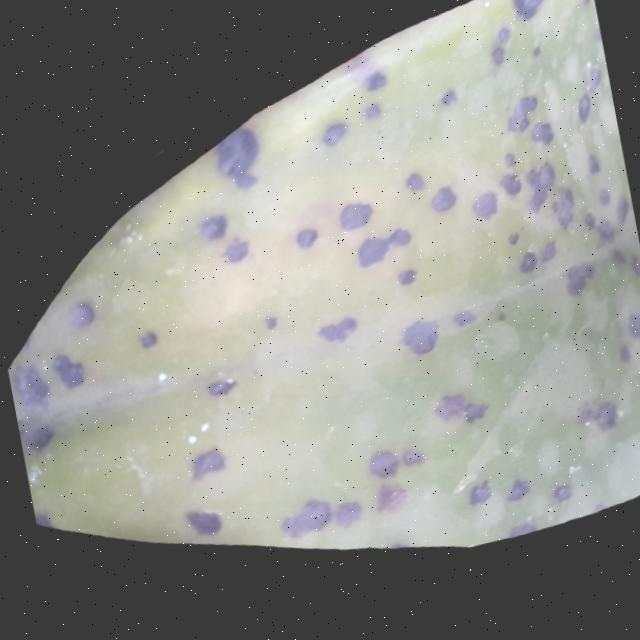mite: (48, 350, 89, 395), (334, 201, 377, 238), (509, 0, 552, 29), (317, 122, 352, 154), (202, 377, 239, 404), (292, 228, 321, 255)
spots: (1, 0, 640, 638)
